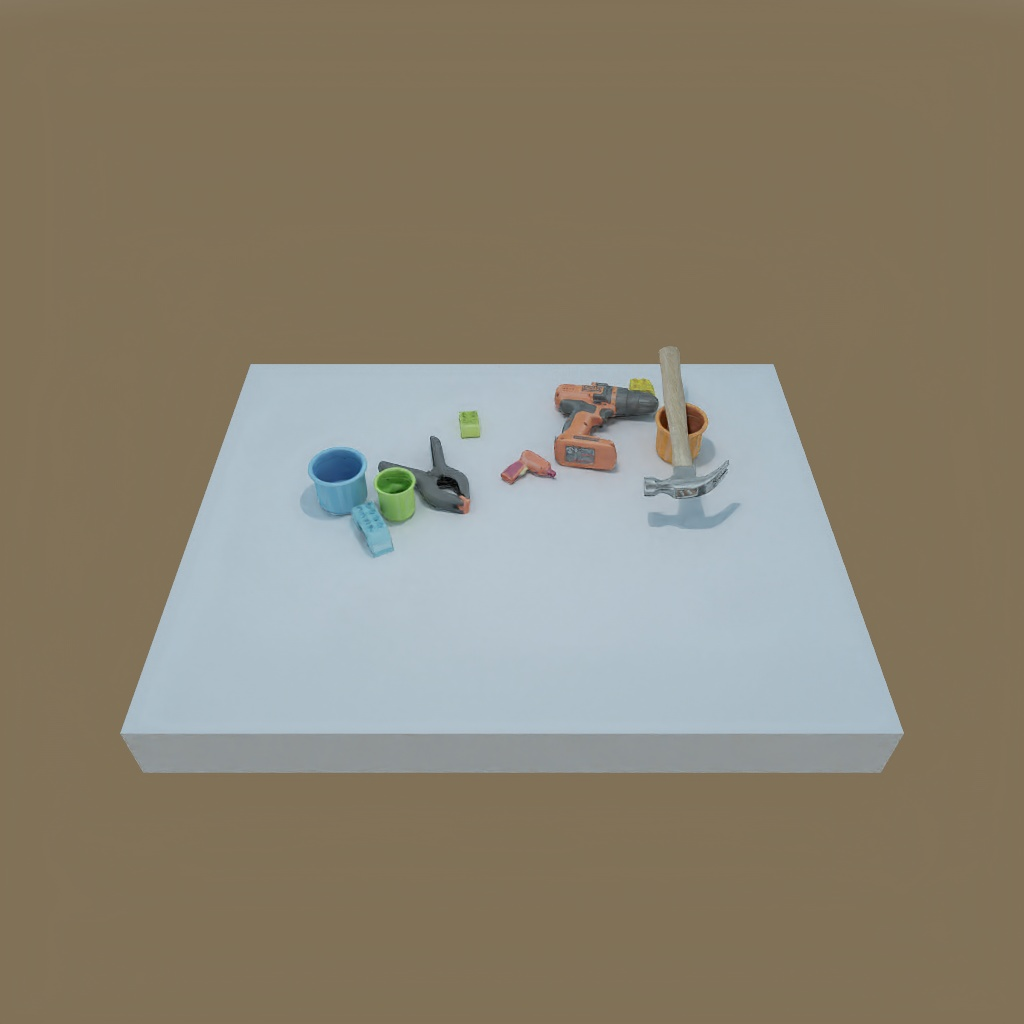hammer: (639, 344, 736, 500)
power_drill: (548, 381, 651, 477)
